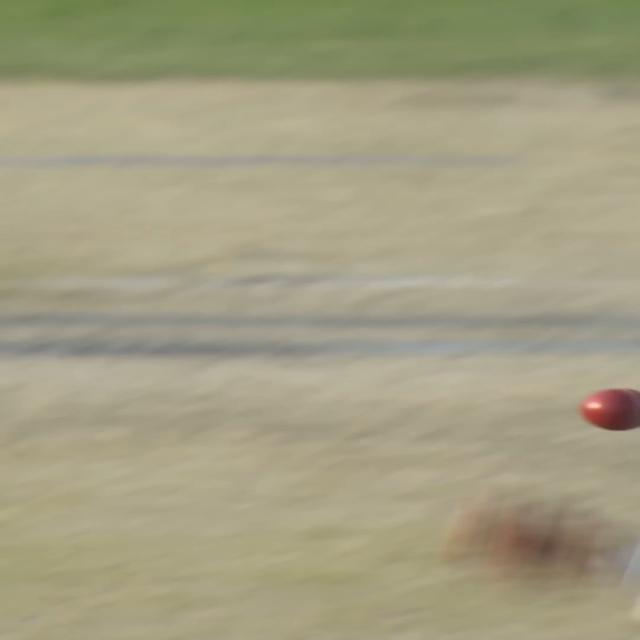Cricket ball: (580, 385, 640, 433)
